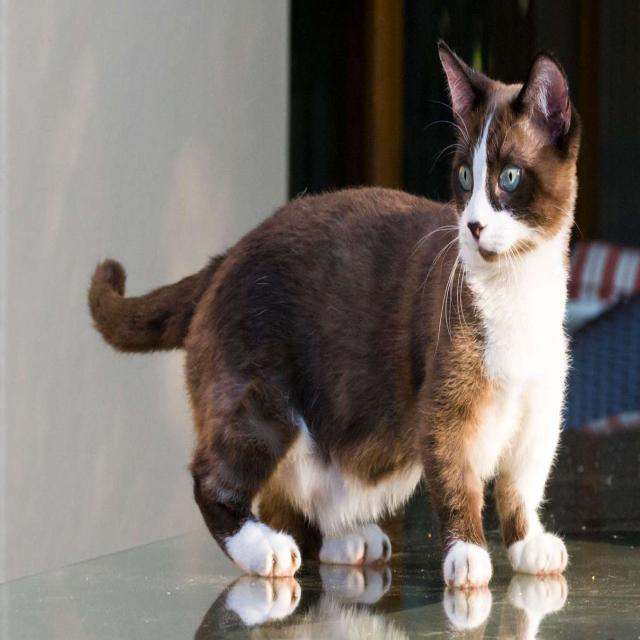Munchkin: (84, 31, 584, 592)
